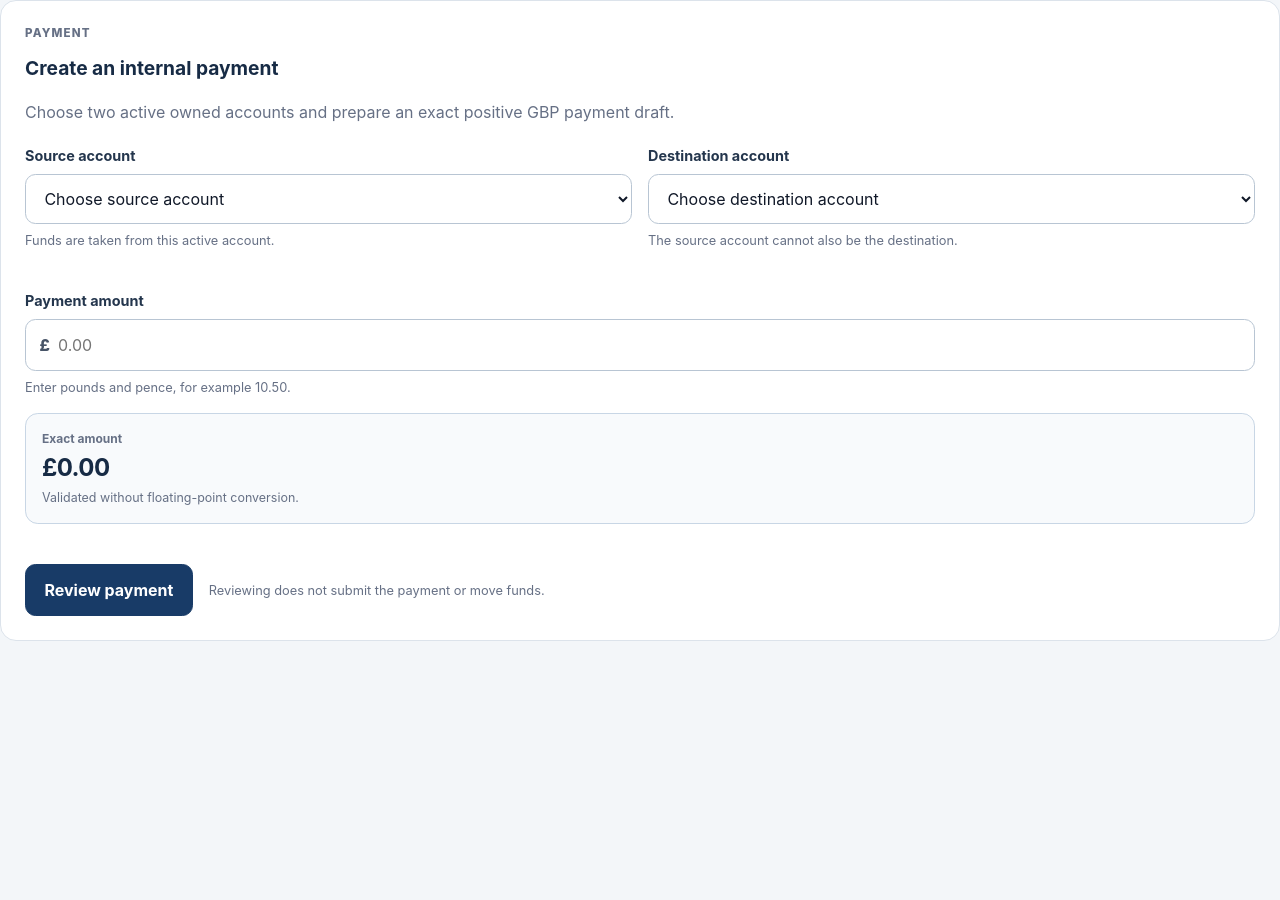
Test: PaymentCreationForm › builds a reviewable exact payment draft without submitting it
Step 1. Select "Account ending 77B9 — £12.50" in the dropdown labelled "Source account" → point(328, 199), box [25, 174, 632, 224]
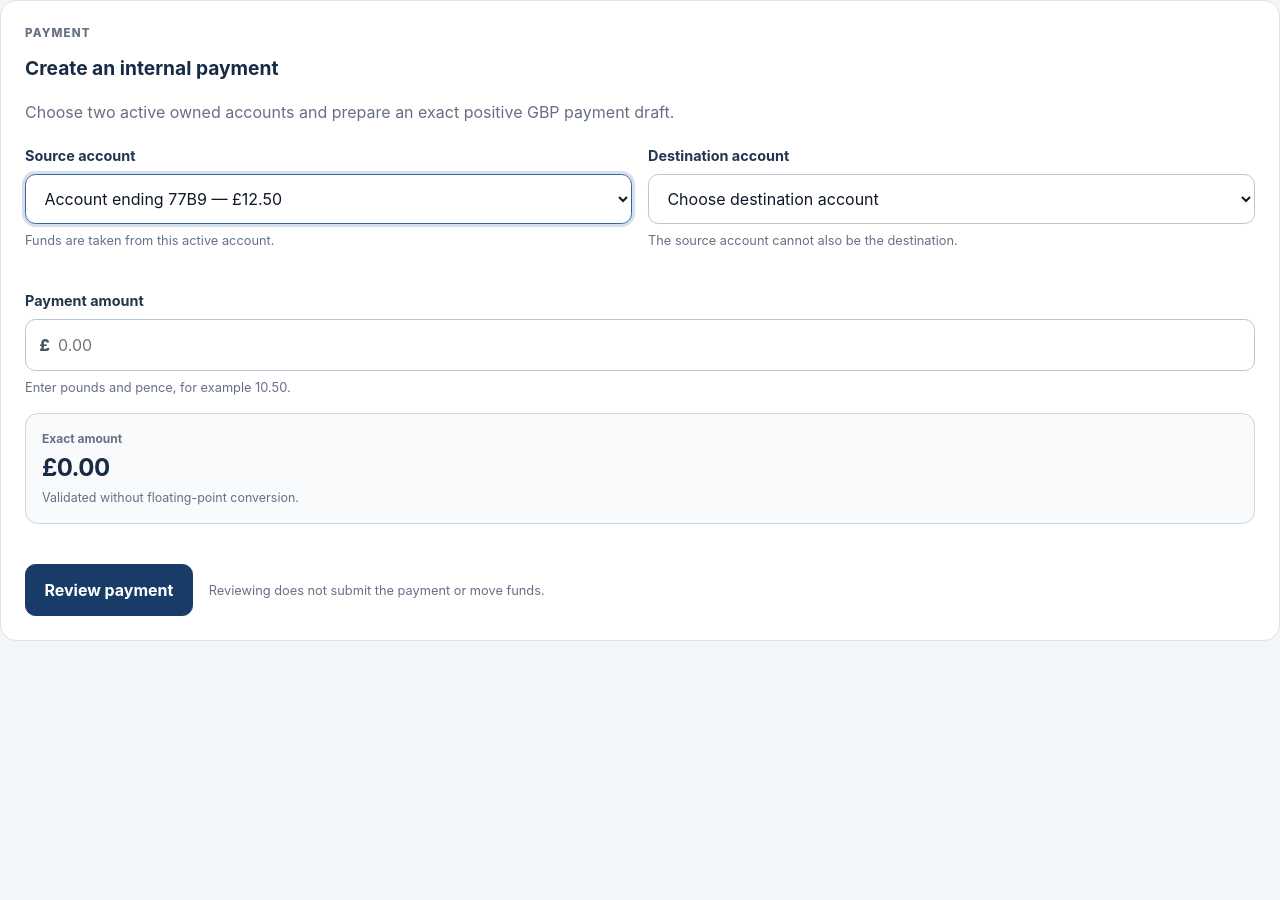
Step 2. Select "Account ending BC28 — £50.00" in the dropdown labelled "Destination account" → point(952, 199), box [648, 174, 1255, 224]
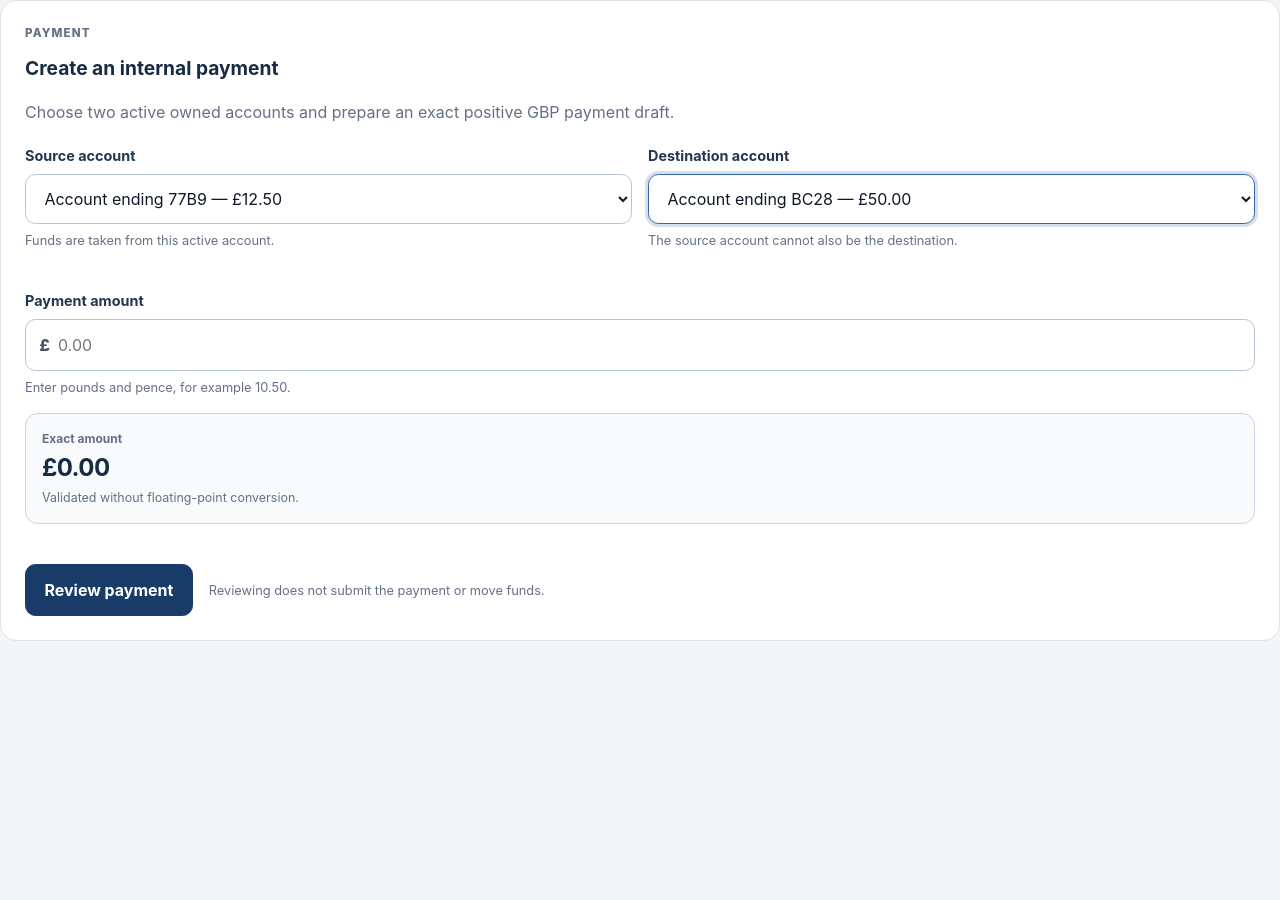
Step 3. Type "10.5" into the field labelled "Payment amount" → point(640, 345), box [25, 319, 1255, 371]
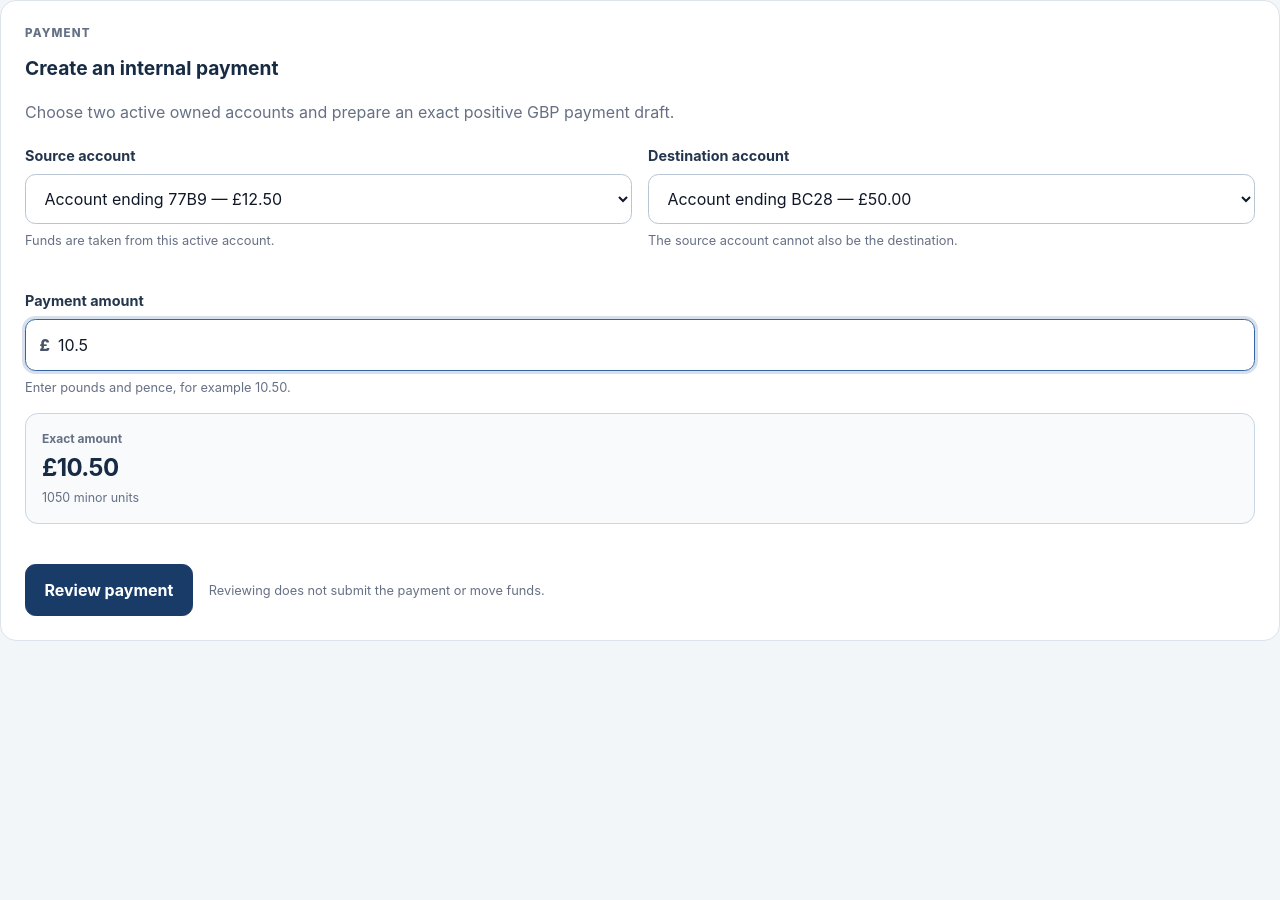
Step 4. Click the button "Review payment" → point(109, 590), box [25, 564, 193, 616]
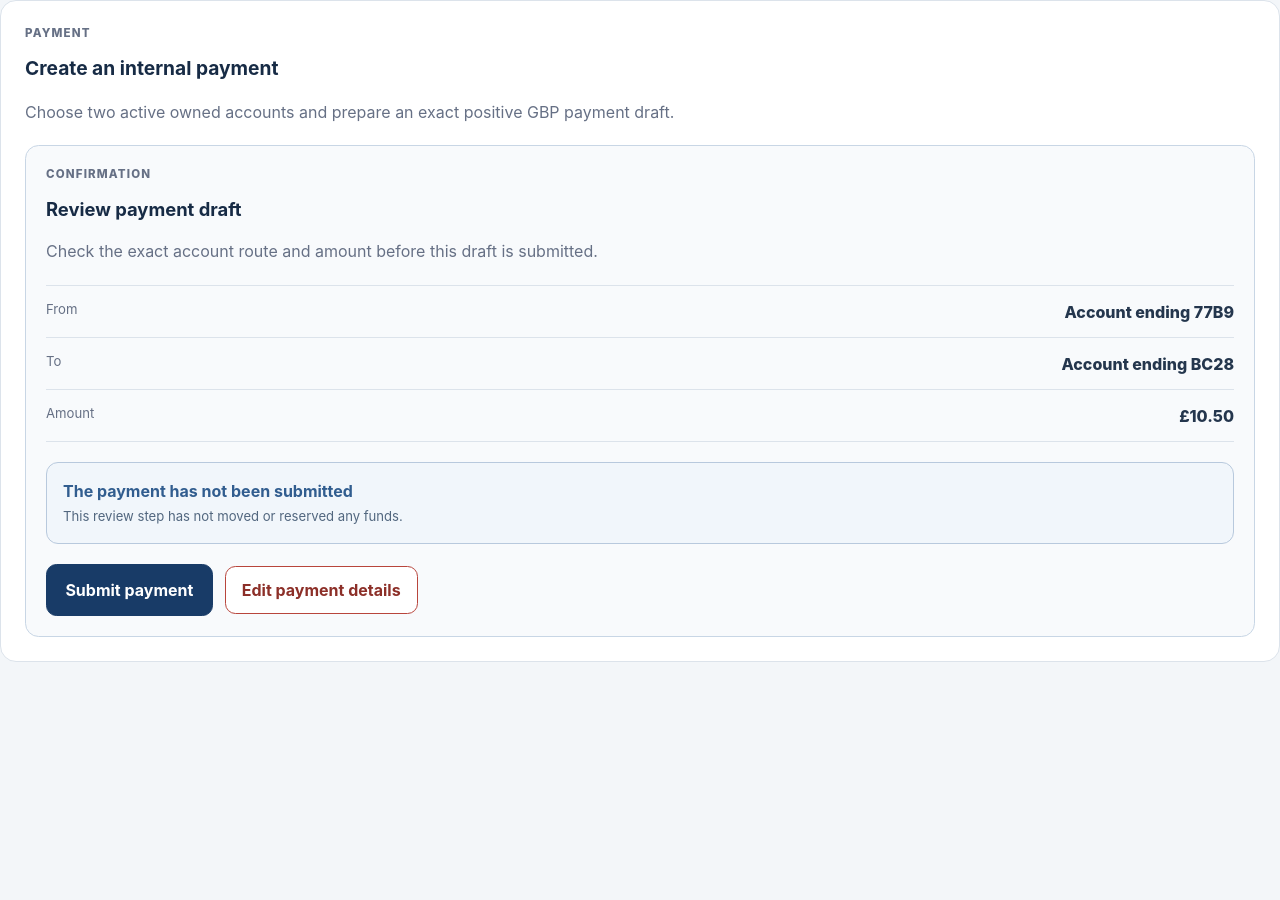
Check: the heading "Review payment draft" is shown, box [46, 198, 242, 220]
Check: the text "Account ending 77B9" is shown, box [1065, 302, 1234, 322]
Check: the text "Account ending BC28" is shown, box [1062, 354, 1234, 374]
